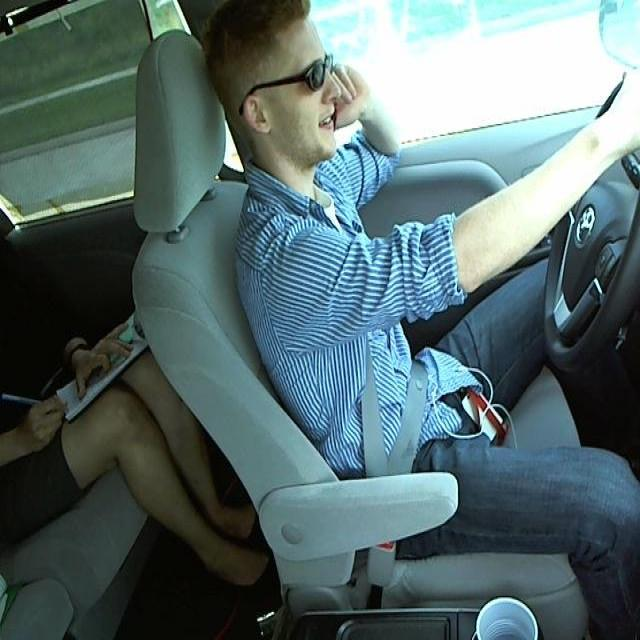using_phone: (161, 6, 400, 188)
